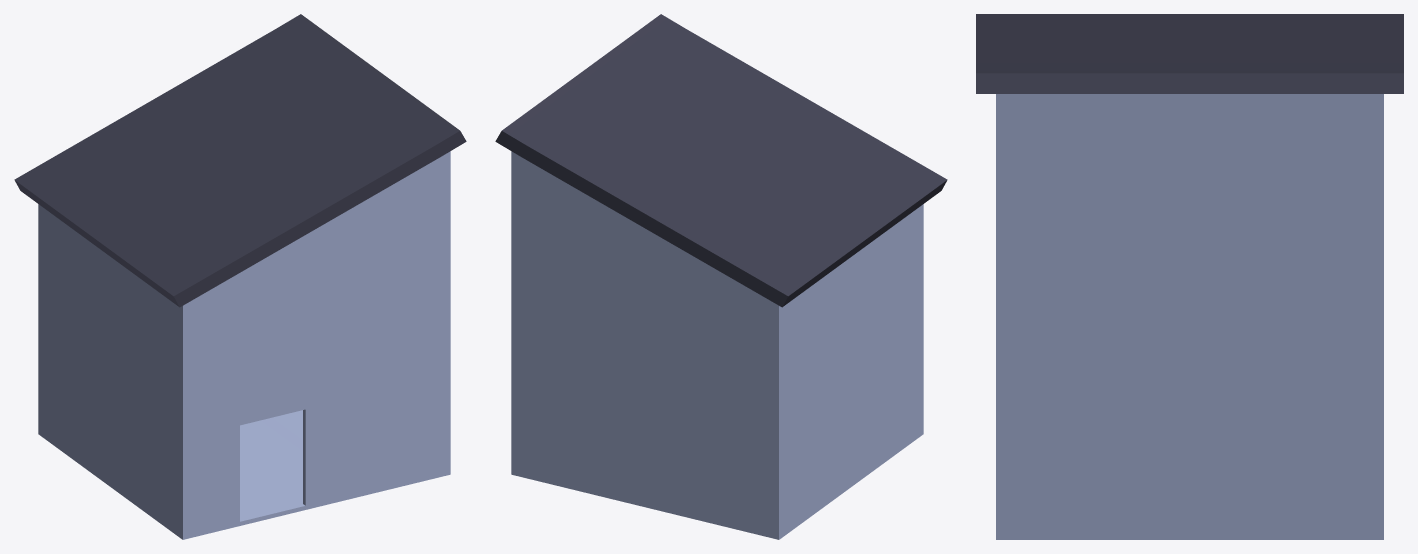
The model's file is Modifs_Blocking Zone1.fbx.
3 views of the same model, side by side, from view 1: azimuth 30°, elevation 25°; view 2: azimuth 150°, elevation 25°; view 3: azimuth 270°, elevation 25° (orthographic). The views are drawn at different scales.
Visible parts, largest first — view 1: Cabanon.001, MurCassable.001; view 2: Cabanon.001; view 3: Cabanon.001.
Boxes of the visible parts, bbox=[...] form: Cabanon.001: bbox=[14, 14, 466, 539]; MurCassable.001: bbox=[368, 401, 424, 494]; Cabanon.001: bbox=[495, 14, 947, 539]; Cabanon.001: bbox=[976, 14, 1403, 539].
Size of the model in its own units: 7.25 by 8.25 by 6.84.
